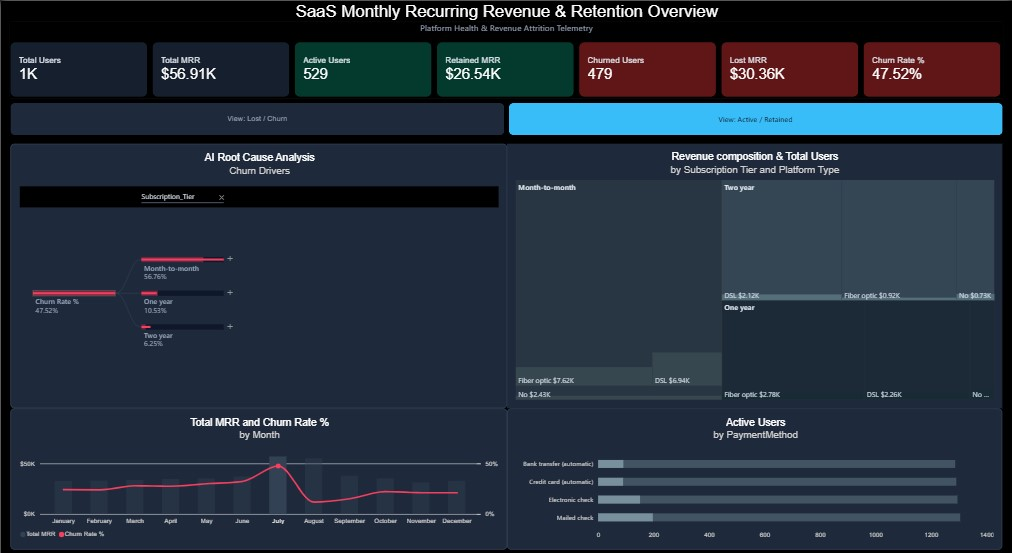

This screenshot's page, from the dashboard's own definition file:
{"tool":"powerbi","page":{"name":"Executive Summary Dashboard","canvas":[1920,1080],"ordinal":0},"visuals":[{"type":"textbox","box":[0,0,1920,40],"z":0},{"type":"decompositionTreeVisual","title":"AI Root Cause Analysis","fields":{"Analyze":["_KeyMeasures.Churn Rate %"],"ExplainBy":["Fact_Churn.PaymentMethod","Dim_Subscription.Platform_Type","Fact_Churn.TechSupport","Dim_Subscription.Subscription_Tier"]},"box":[17.6,271.1,943.3,502.5],"z":1000,"group":"g2"},{"type":"cardVisual","title":"Platform Health & Revenue Attrition Telemetry","fields":{"Data":["_KeyMeasures.Total Users","_KeyMeasures.Total MRR","_KeyMeasures.Active Users","_KeyMeasures.Retained MRR","_KeyMeasures.Churned Users","_KeyMeasures.Lost MRR","_KeyMeasures.Churn Rate %"]},"box":[17.6,39.7,1884.5,143.3],"z":2000},{"type":"bookmarkNavigator","box":[17.6,194,1884.5,61.7],"z":4000},{"type":"treemap","title":"Revenue composition & Total Users","fields":{"Details":["Dim_Subscription.Platform_Type"],"Group":["Dim_Subscription.Subscription_Tier"],"Values":["_KeyMeasures.Lost MRR"]},"box":[960.9,271.1,941.1,502.5],"z":5000,"group":"g2"},{"type":"lineClusteredColumnComboChart","fields":{"Category":["Dim_Date.Date.Variation.Date Hierarchy.Month"],"Y":["_KeyMeasures.Total MRR"],"Y2":["_KeyMeasures.Churn Rate %"]},"box":[17.6,773.6,943.3,268.9],"z":6000,"group":"g1"},{"type":"clusteredBarChart","fields":{"Category":["Fact_Churn.PaymentMethod"],"Y":["_KeyMeasures.Active Users"]},"box":[960.9,773.6,941.1,268.9],"z":7000,"group":"g1"},{"type":"group","id":"g1","title":"Group 1","box":[17.6,773.6,1884.5,268.9],"z":7001},{"type":"group","id":"g2","title":"Group 2","box":[17.6,271.1,1884.5,502.5],"z":7002}]}

Visuals, with their boxes in screenshot pixels (x1, y1, x2, y2), scaled from the page's 1920x1080 canvas onto the 1012x553 screenshot:
textbox: x1=0 y1=0 x2=1011 y2=20
"AI Root Cause Analysis" decompositionTreeVisual: x1=9 y1=139 x2=506 y2=396
"Platform Health & Revenue Attrition Telemetry" cardVisual: x1=9 y1=20 x2=1003 y2=94
bookmarkNavigator: x1=9 y1=99 x2=1003 y2=131
"Revenue composition & Total Users" treemap: x1=506 y1=139 x2=1003 y2=396
lineClusteredColumnComboChart - Dim_Date.Date.Variation.Date Hierarchy.Month x _KeyMeasures.Total MRR: x1=9 y1=396 x2=506 y2=534
clusteredBarChart - Fact_Churn.PaymentMethod x _KeyMeasures.Active Users: x1=506 y1=396 x2=1003 y2=534
"Group 1" group: x1=9 y1=396 x2=1003 y2=534
"Group 2" group: x1=9 y1=139 x2=1003 y2=396
